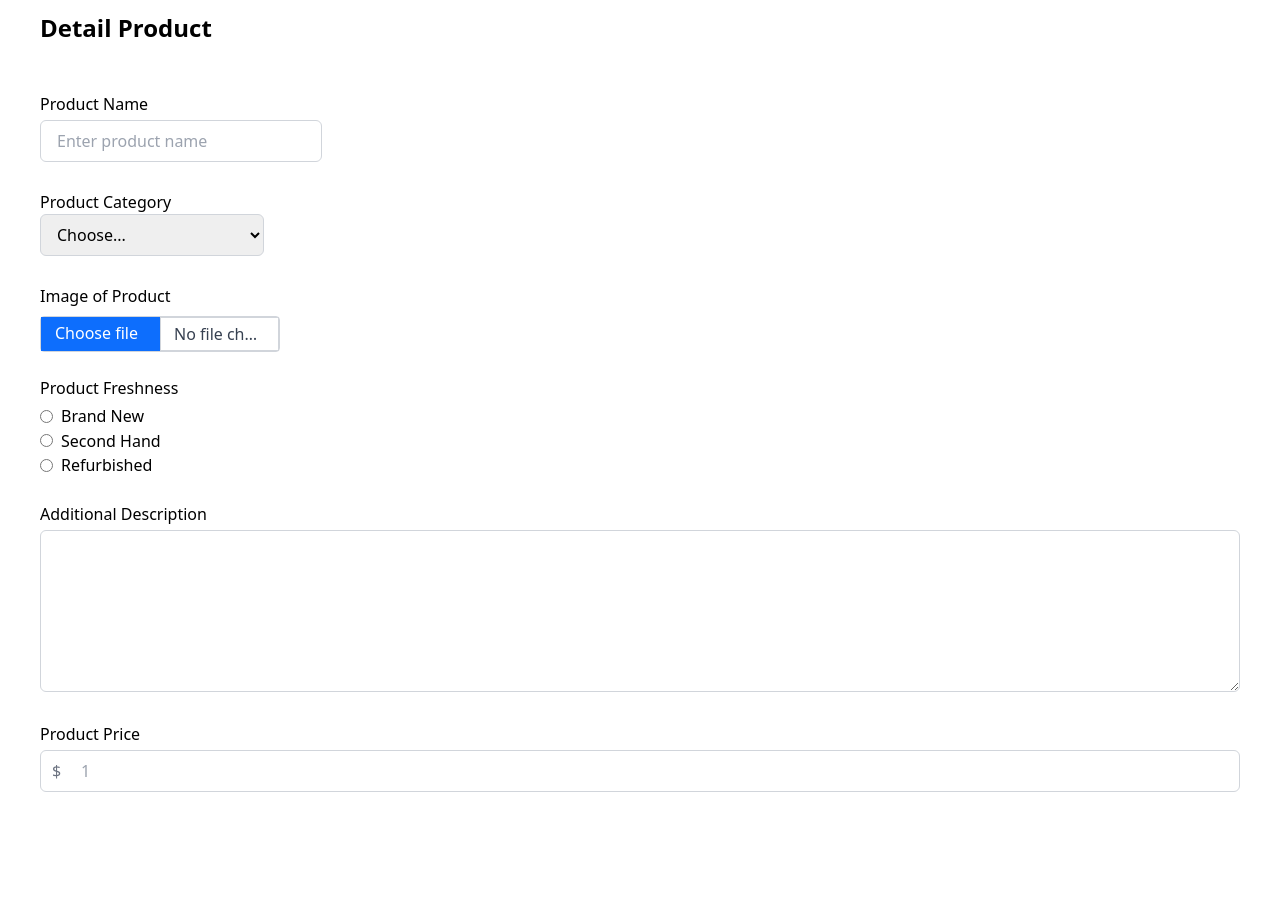
Scenario: ProductForm Component › Prioritas 2.1 (displays error for invalid characters in Product Name)
This screenshot has width=1280, height=912.
In the field labelled "Product Name": (181, 141) [40,120,322,162], type "Invalid@Product"
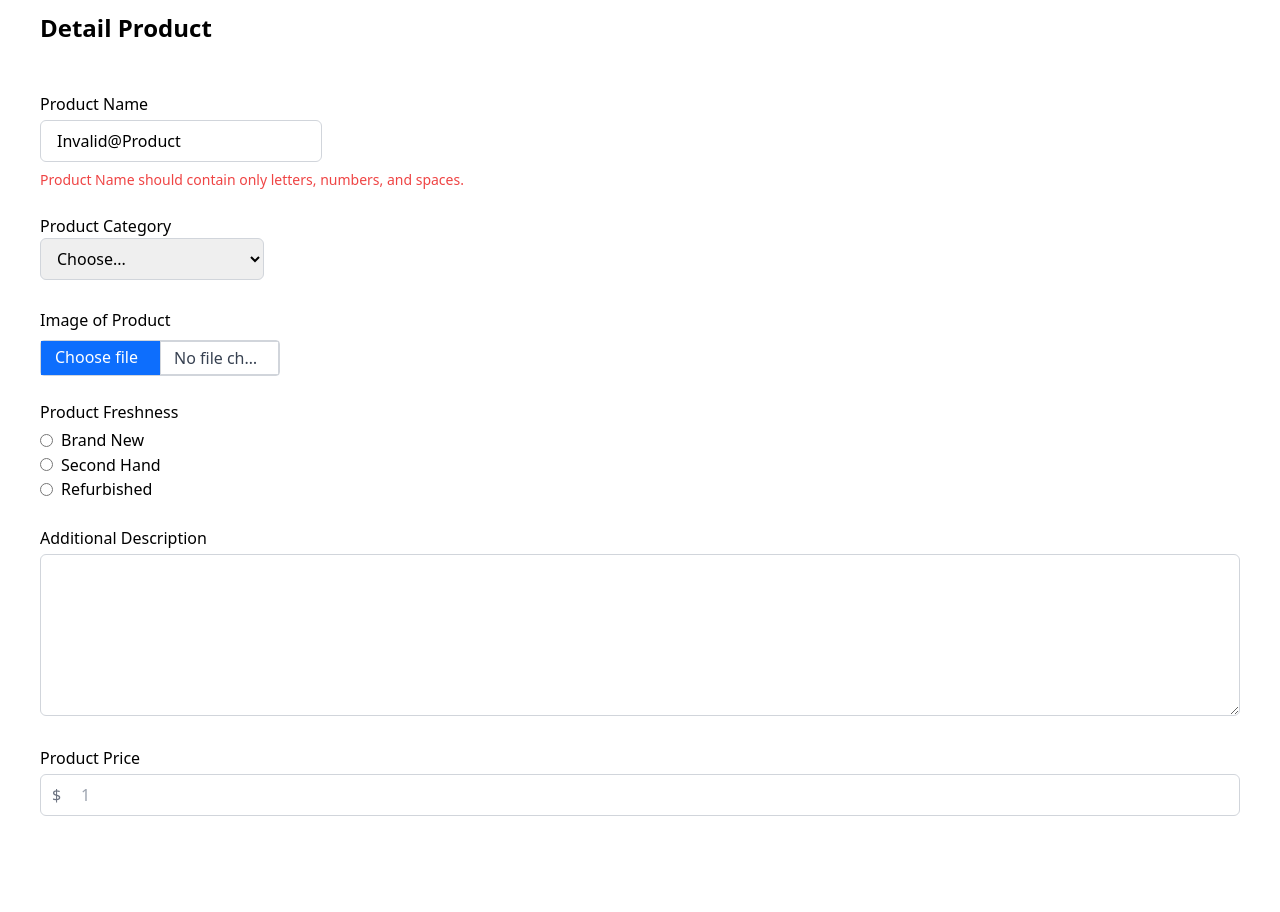
expect the text "Product Name should contain only letters, numbers, and spaces." is shown: met, box [40,170,464,189]
